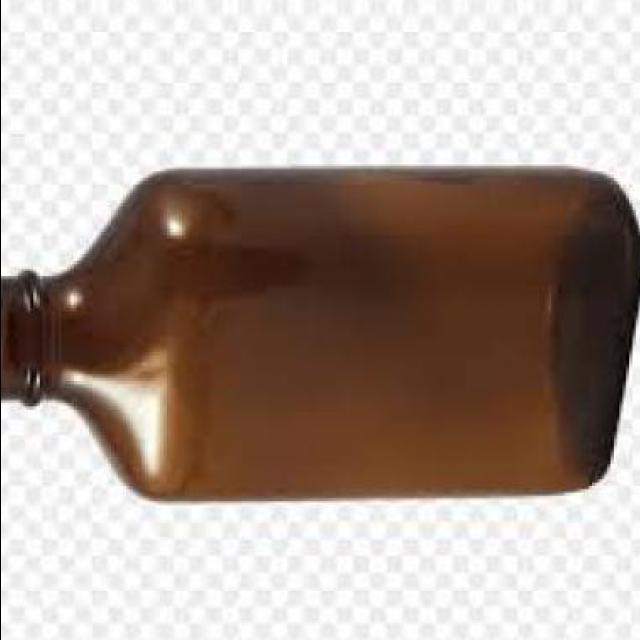kaca: (0, 169, 638, 492)
